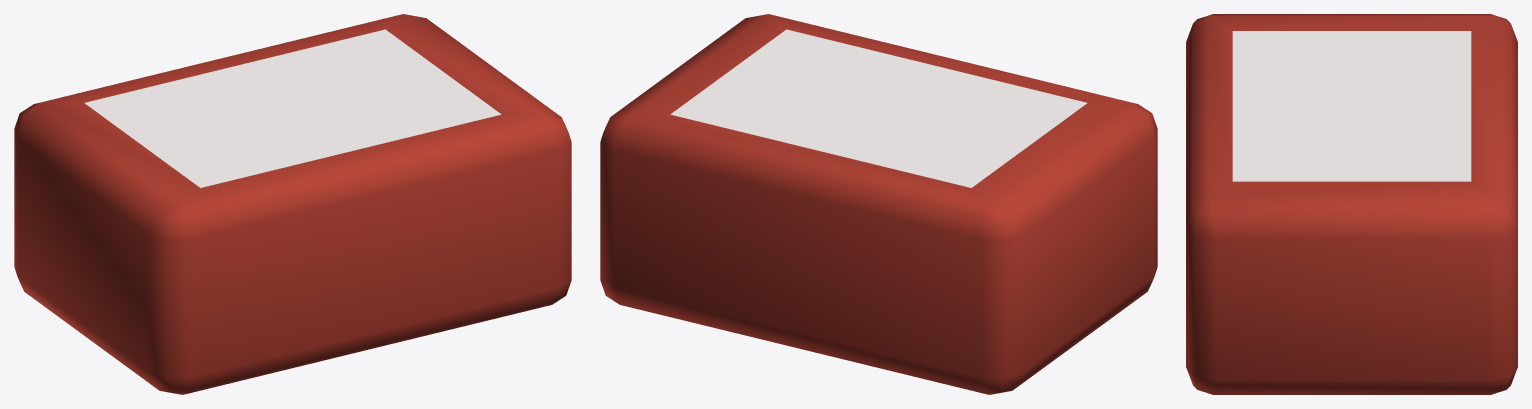
File: model_cacaupo_01.fbx
3 views of the same model, side by side, from view 1: azimuth 30°, elevation 25°; view 2: azimuth 150°, elevation 25°; view 3: azimuth 270°, elevation 25° (orthographic). The views are drawn at different scales.
Visible parts, largest first — view 1: Caixa de Achocolatado.001; view 2: Caixa de Achocolatado.001; view 3: Caixa de Achocolatado.001.
Part boxes in pixels (x1,y1,x2,y2): Caixa de Achocolatado.001: [14, 14, 571, 394]; Caixa de Achocolatado.001: [600, 14, 1157, 394]; Caixa de Achocolatado.001: [1186, 14, 1517, 394].
Size of the model in its own units: 0.8484 by 0.3701 by 0.5673.
